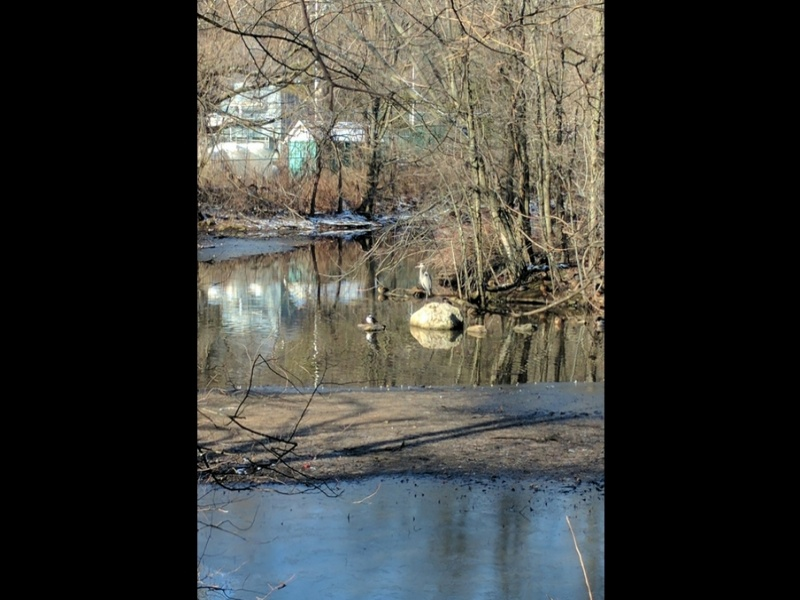heron: (416, 262, 432, 301)
